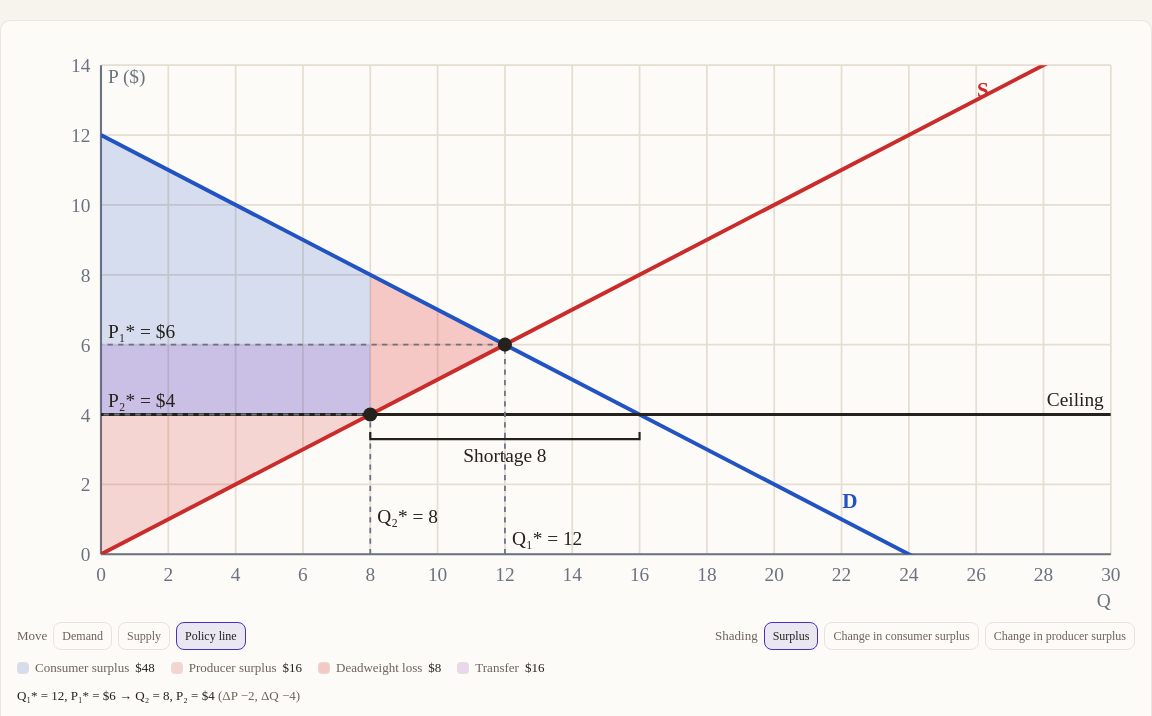
Test: market_2d rendering › switches to the surplus-change shading
This screenshot has width=1152, height=716.
Click the button "Change in producer surplus" at (1060, 636), box [985,622,1135,650]
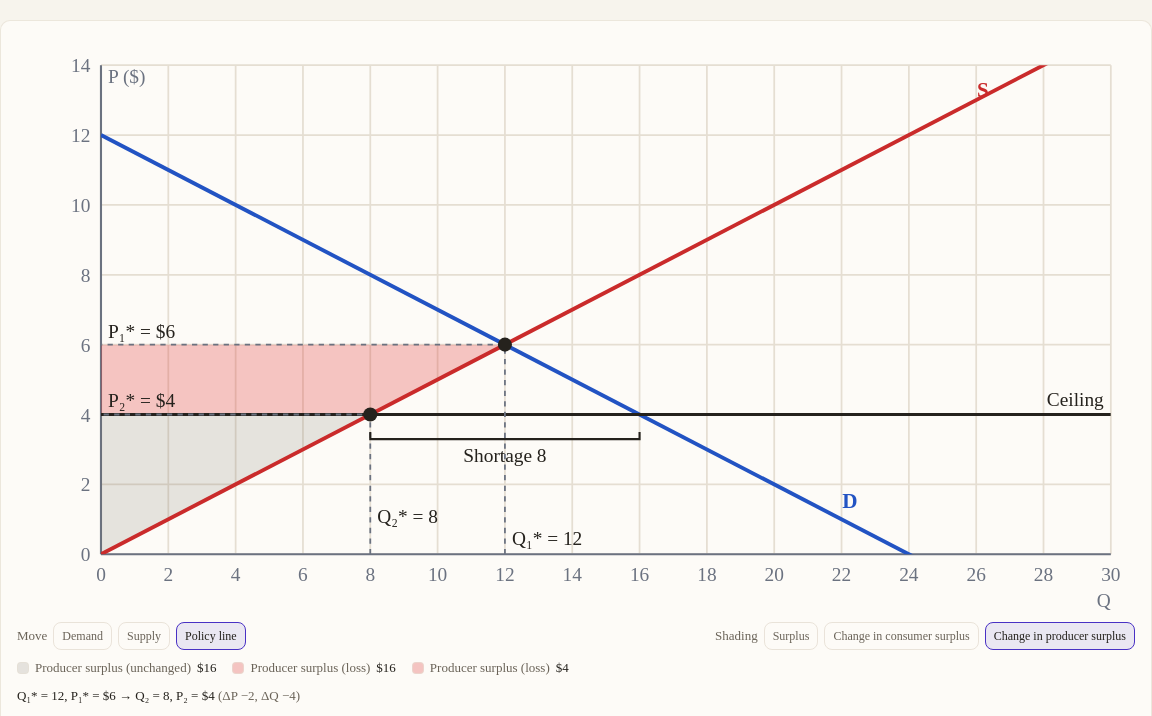
Expected: the list shows "Producer surplus (loss)", [17,660,569,675]
